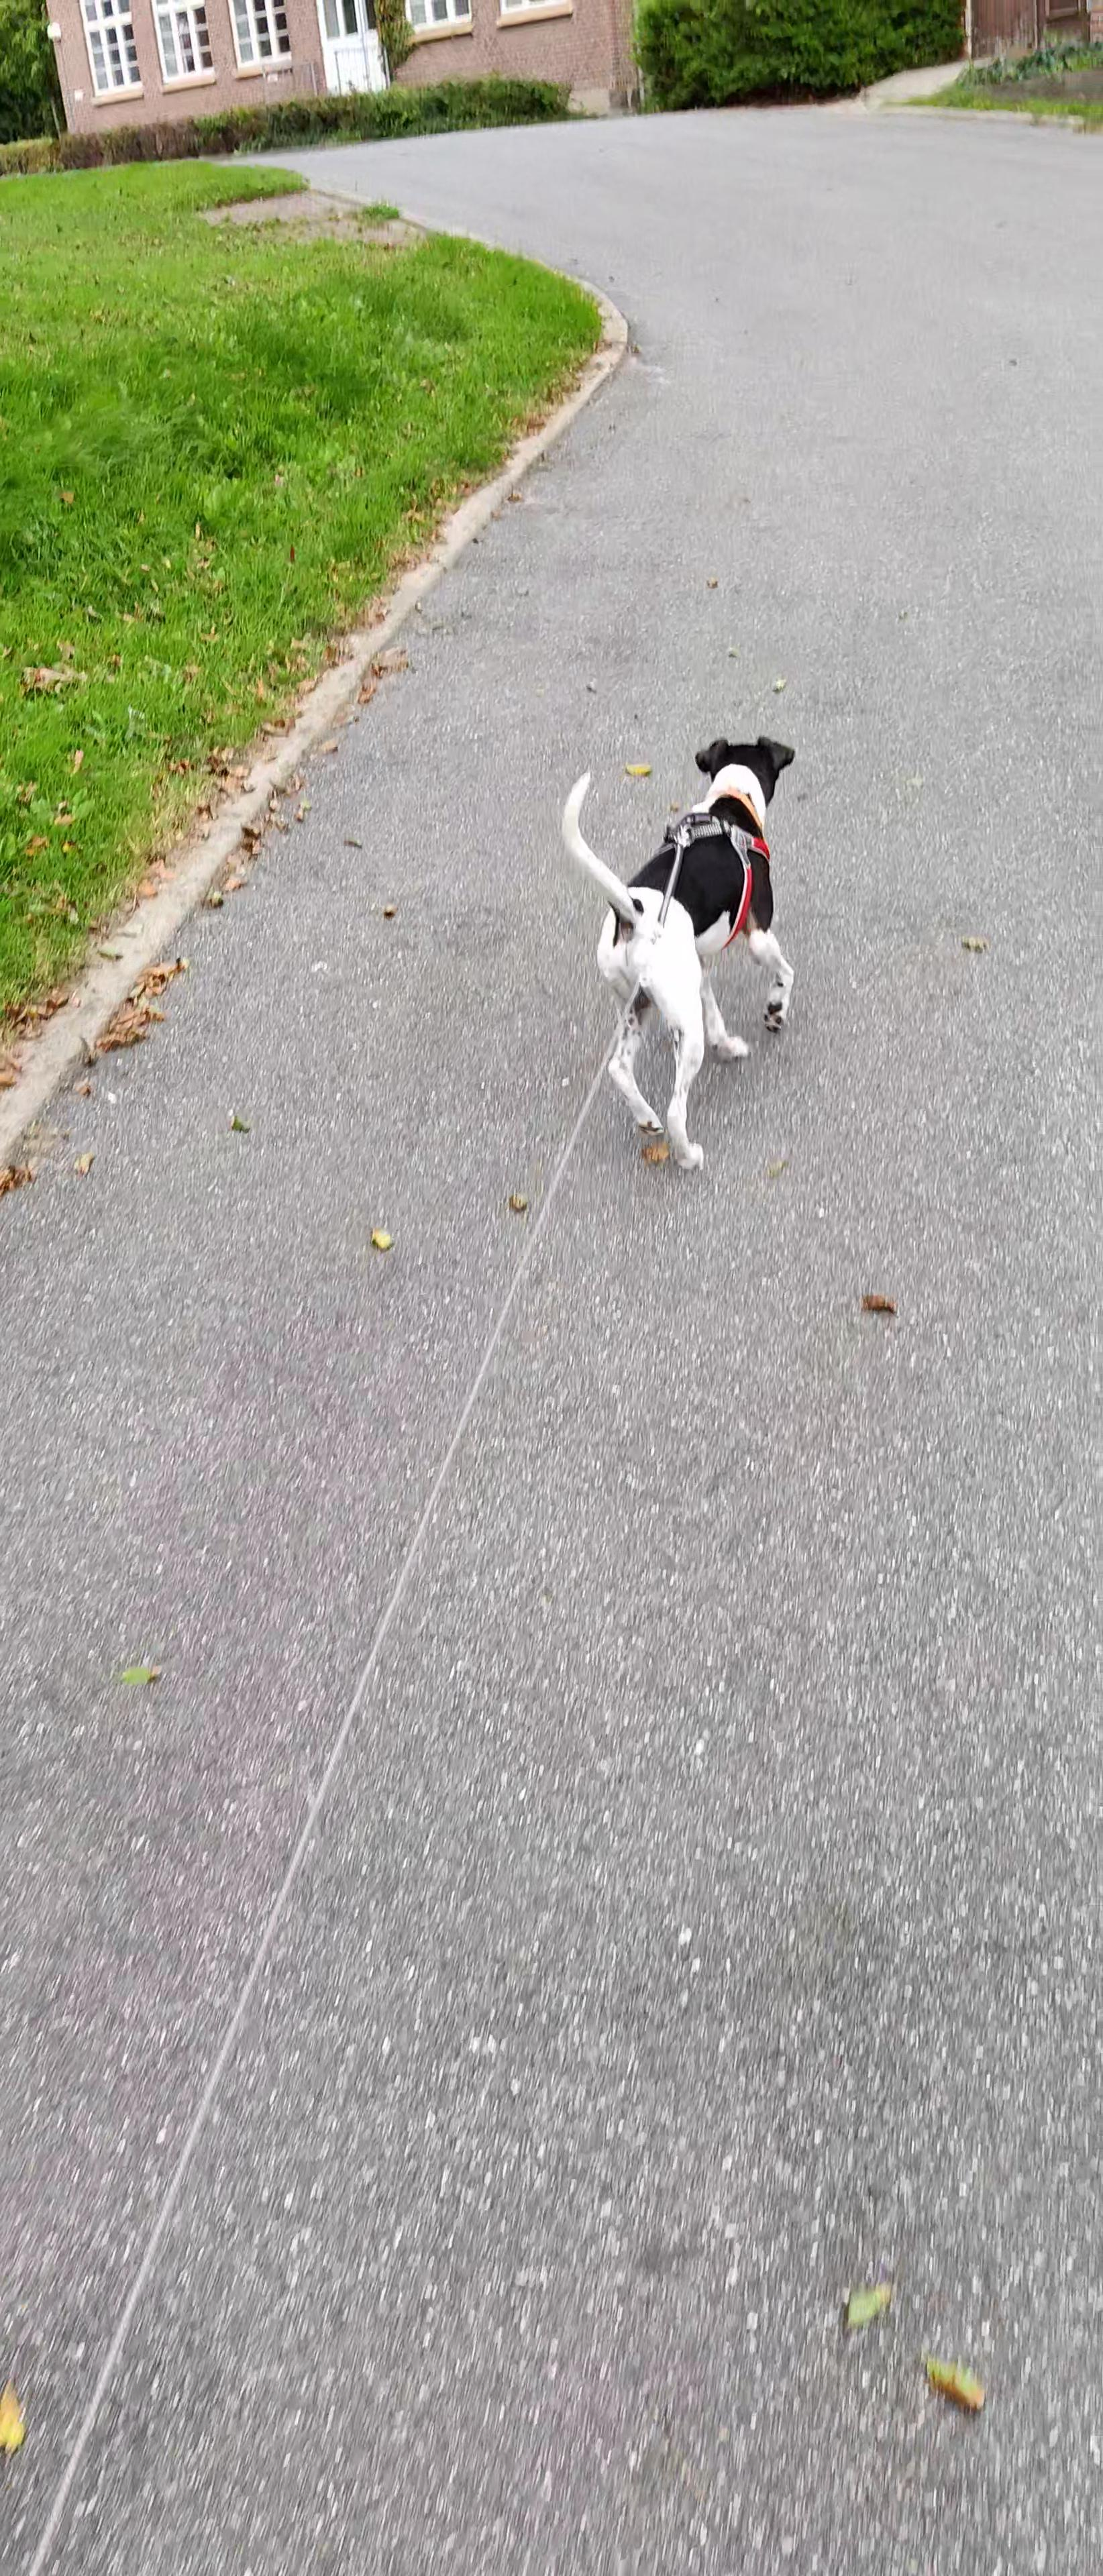Dog: (552, 729, 801, 1173)
